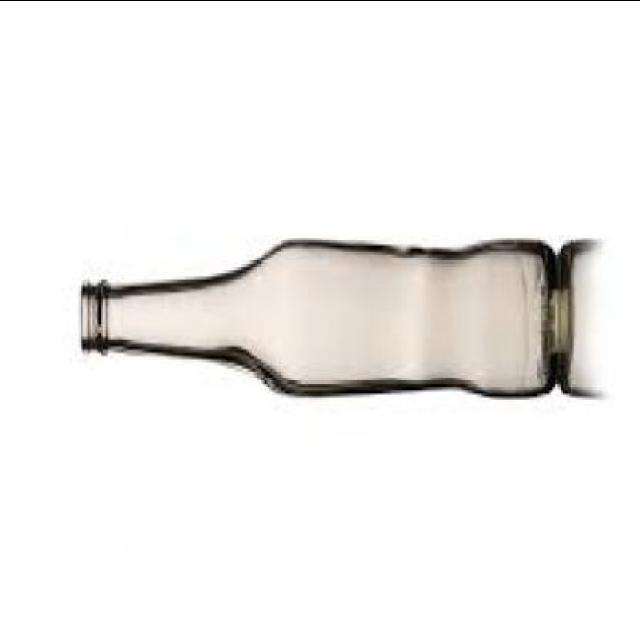kaca: (77, 240, 555, 398)
